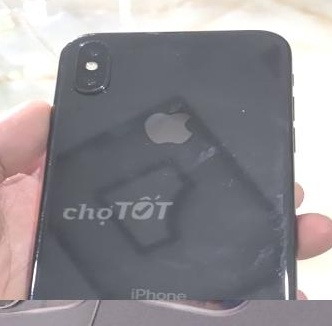scratch: (199, 137, 289, 300), (22, 153, 60, 286), (212, 94, 258, 123), (94, 35, 124, 64), (92, 76, 121, 103), (160, 41, 188, 58)
